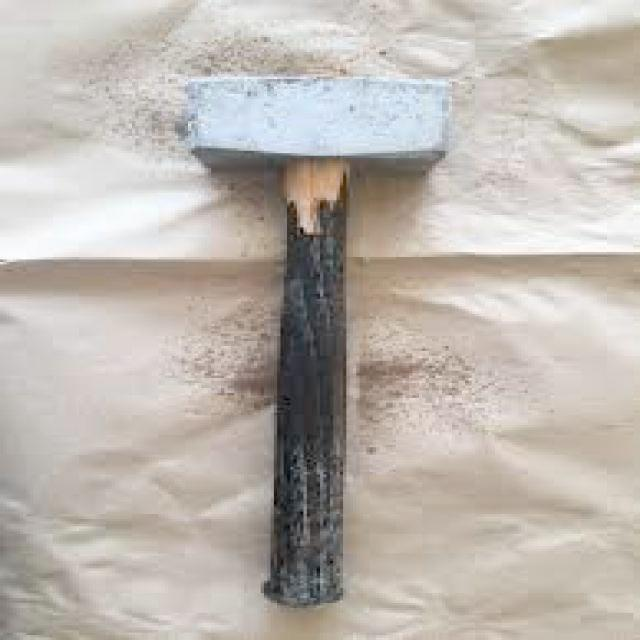hammer: (163, 69, 477, 615)
